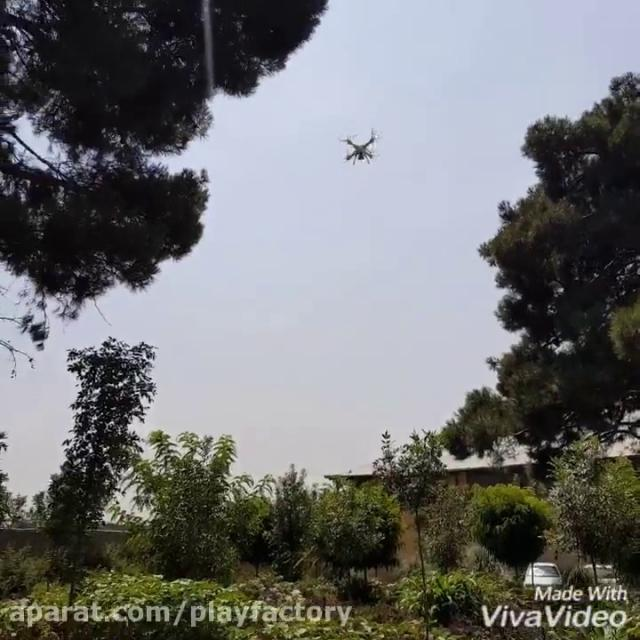drone: (335, 125, 387, 167)
